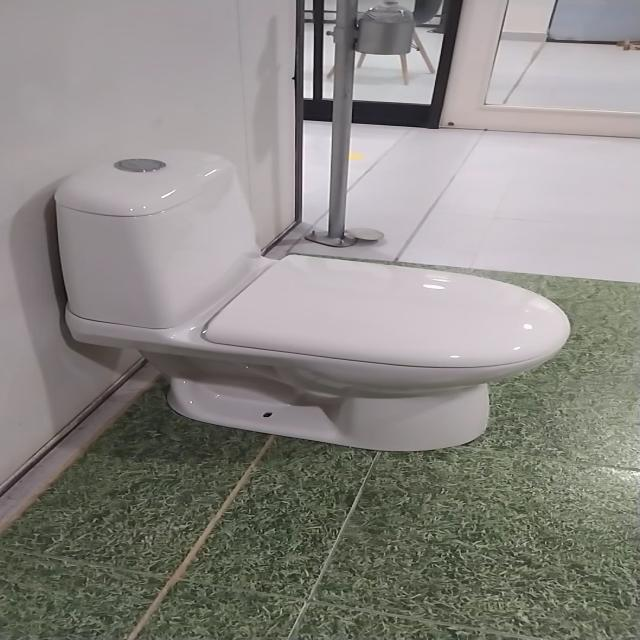toilet: (0, 153, 581, 457)
